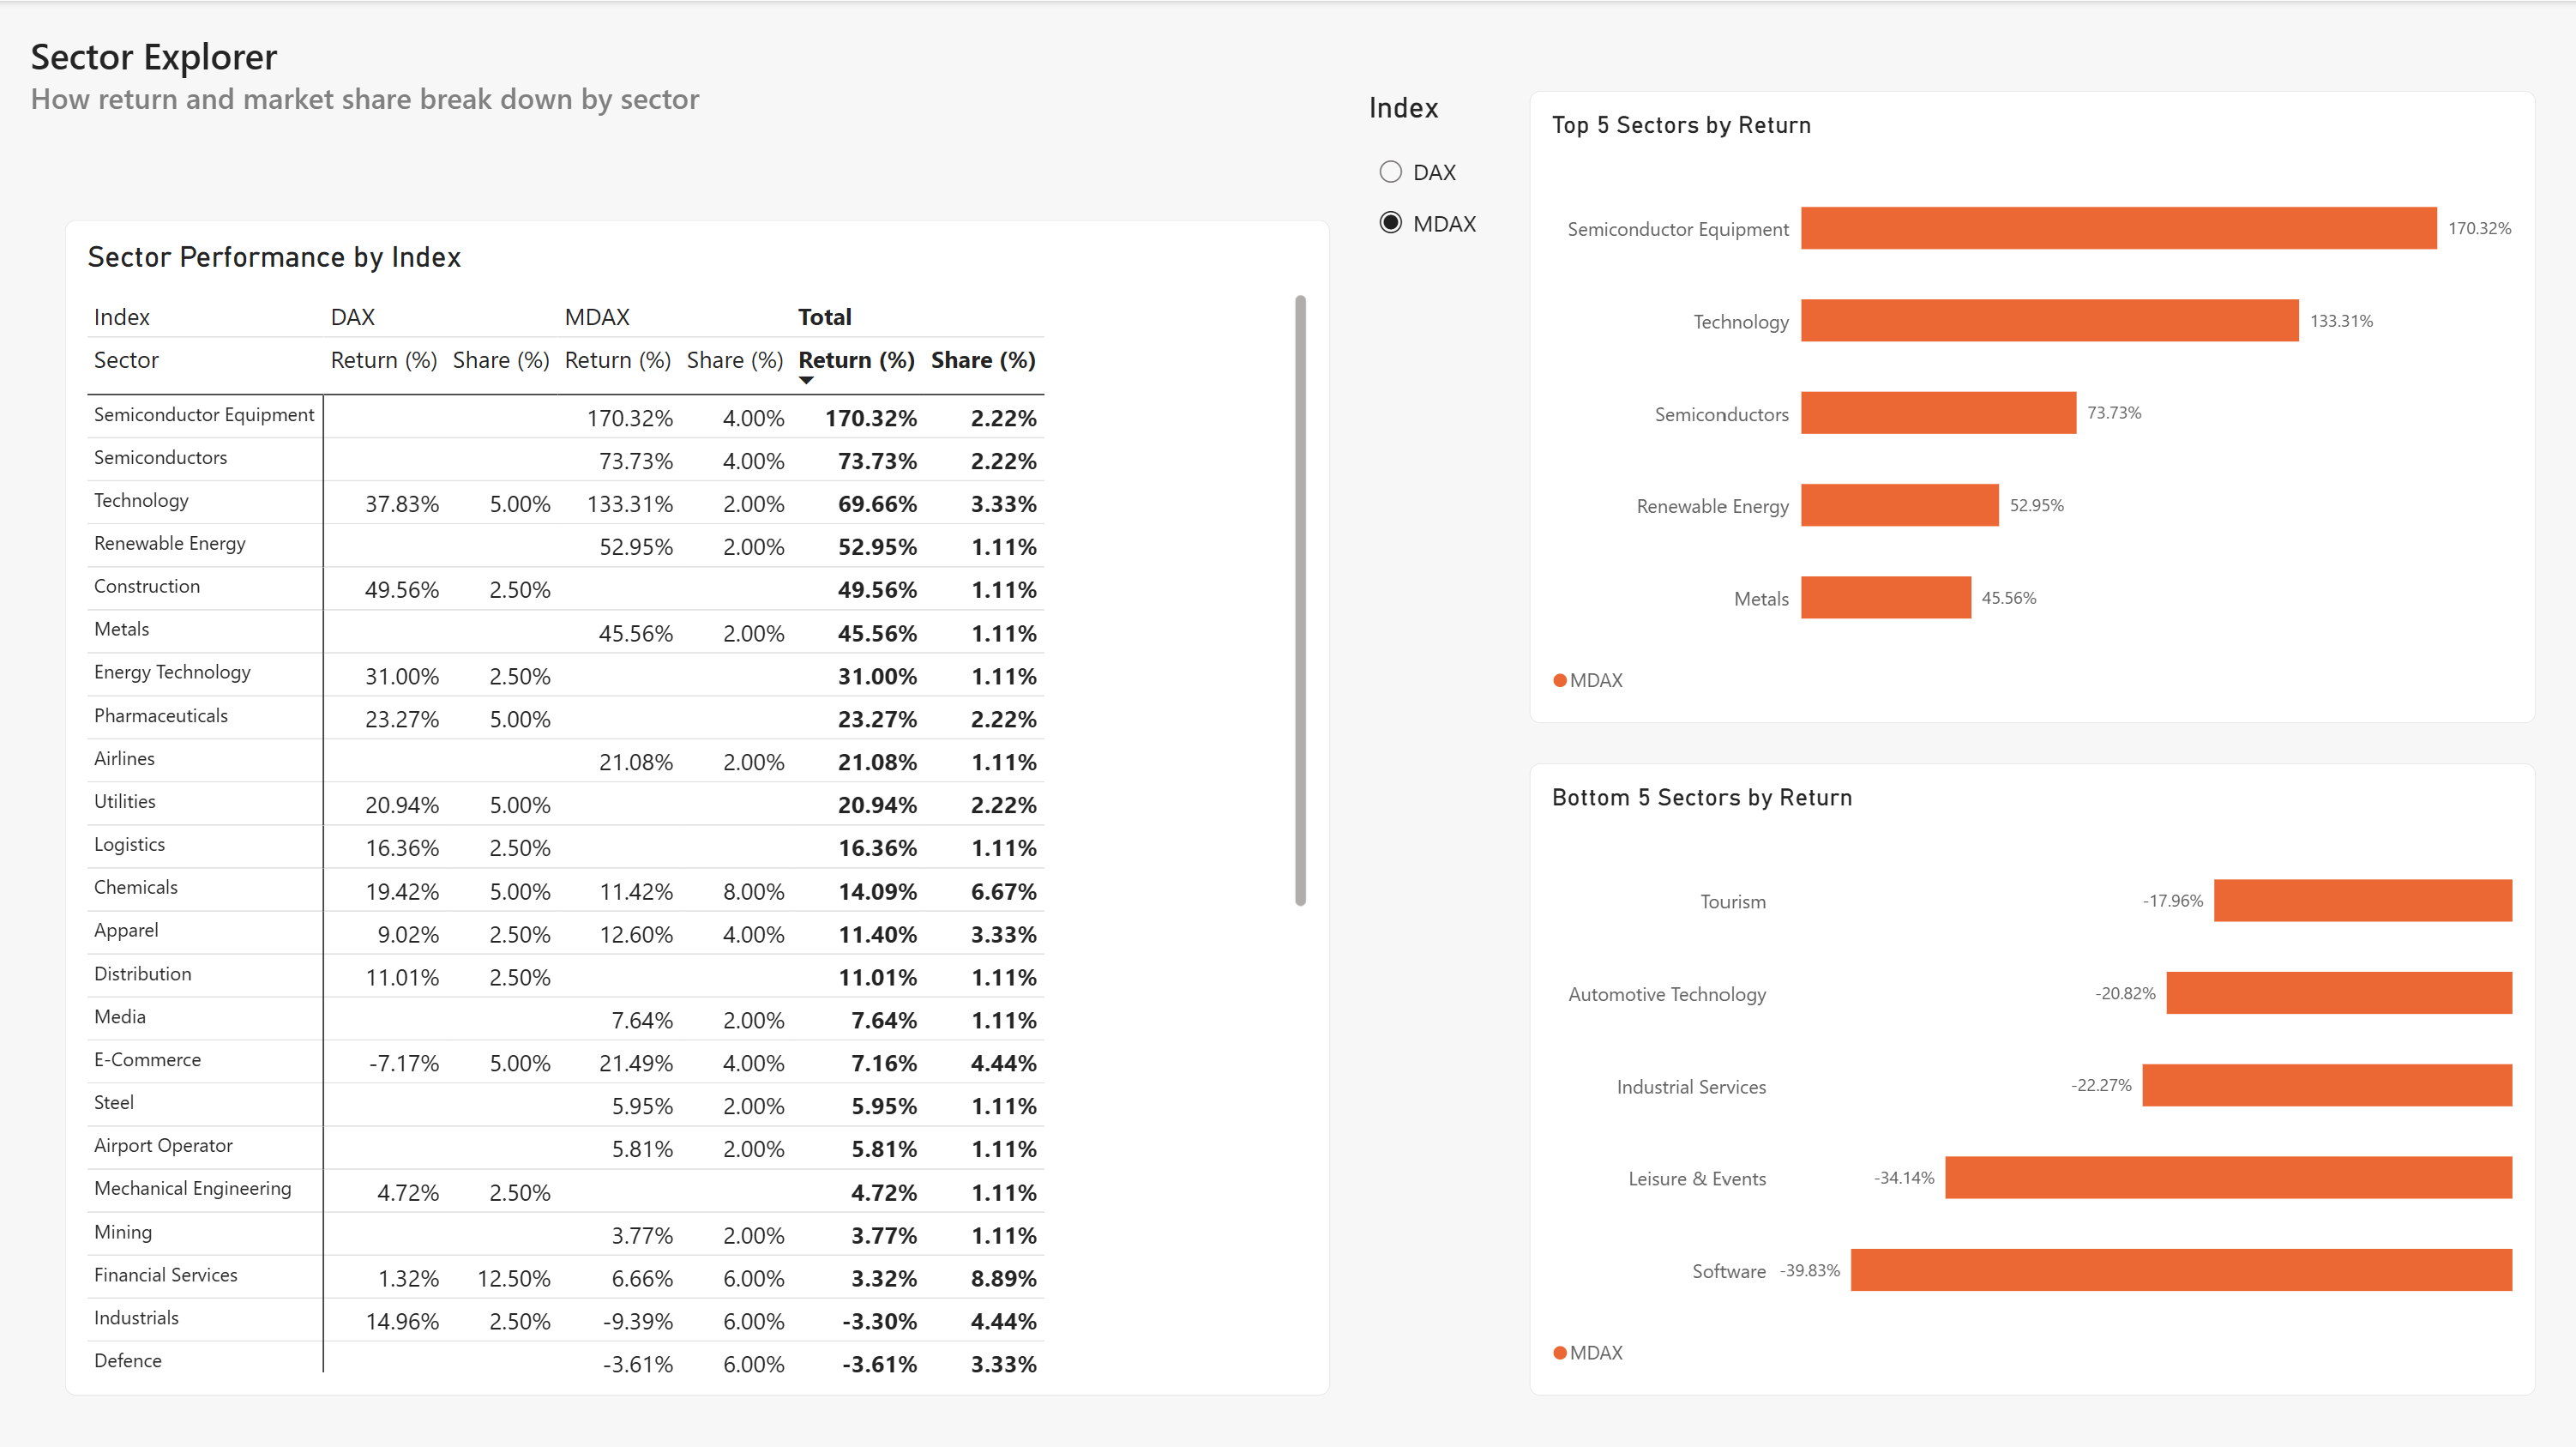

The dashboard page shown, as its layout file describes it:
{"tool":"powerbi","page":{"name":"Sector Explorer","canvas":[1920,1080],"ordinal":3},"visuals":[{"type":"clusteredBarChart","title":"Top 5 Sectors by Return","fields":{"Category":["Dim_Company.sector"],"Series":["Dim_Company.index_group"],"Y":["_Mesures.Ø Rendite (kontextabhängig)"]},"box":[1140,67,748.1,470.1],"z":4000},{"type":"clusteredBarChart","title":"Bottom 5 Sectors by Return","fields":{"Category":["Dim_Company.sector"],"Series":["Dim_Company.index_group"],"Y":["_Mesures.Ø Rendite (kontextabhängig)"]},"box":[1140,567.2,748.1,470.1],"z":5000},{"type":"pivotTable","title":"Sector Performance by Index","fields":{"Columns":["Dim_Company.index_group"],"Rows":["Dim_Company.sector"],"Values":["_Mesures.Ø Rendite (kontextabhängig)","_Mesures.Anzahl Unternehmen"]},"box":[50.2,163,941.2,874.2],"z":5001},{"type":"slicer","title":"Index","fields":{"Values":["Dim_Company.index_group"]},"box":[1020.5,67,119.2,122],"z":5002},{"type":"textbox","box":[24.1,22.7,513.6,89.4],"z":5003}]}

Visuals, with their boxes in screenshot pixels (x1, y1, x2, y2), scaled from the page's 1920x1080 canvas onto the 2576x1447 screenshot:
"Top 5 Sectors by Return" clusteredBarChart: 1530:90:2533:720
"Bottom 5 Sectors by Return" clusteredBarChart: 1530:760:2533:1390
"Sector Performance by Index" pivotTable: 68:219:1330:1390
"Index" slicer: 1369:90:1529:253
textbox: 33:30:721:150
